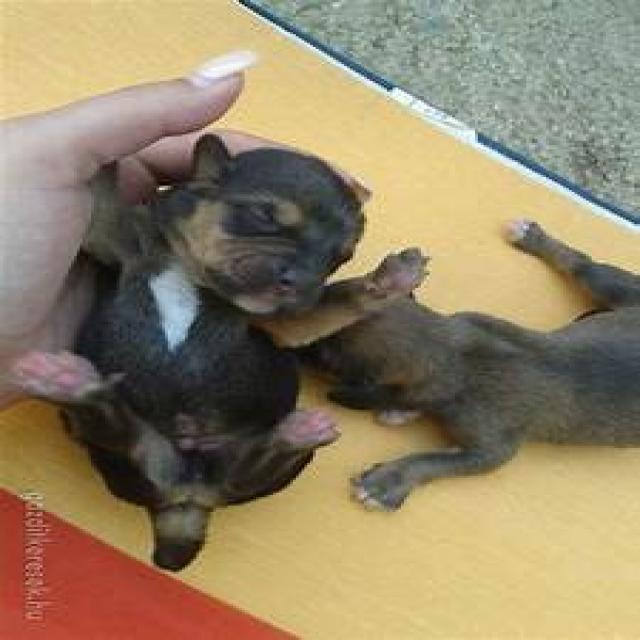animal: (19, 134, 430, 568), (307, 224, 640, 501)
